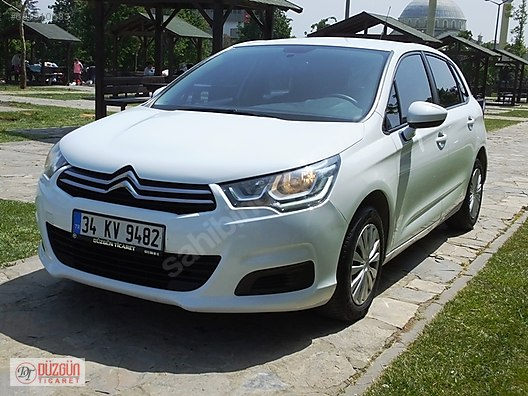citroen: (33, 36, 490, 325)
